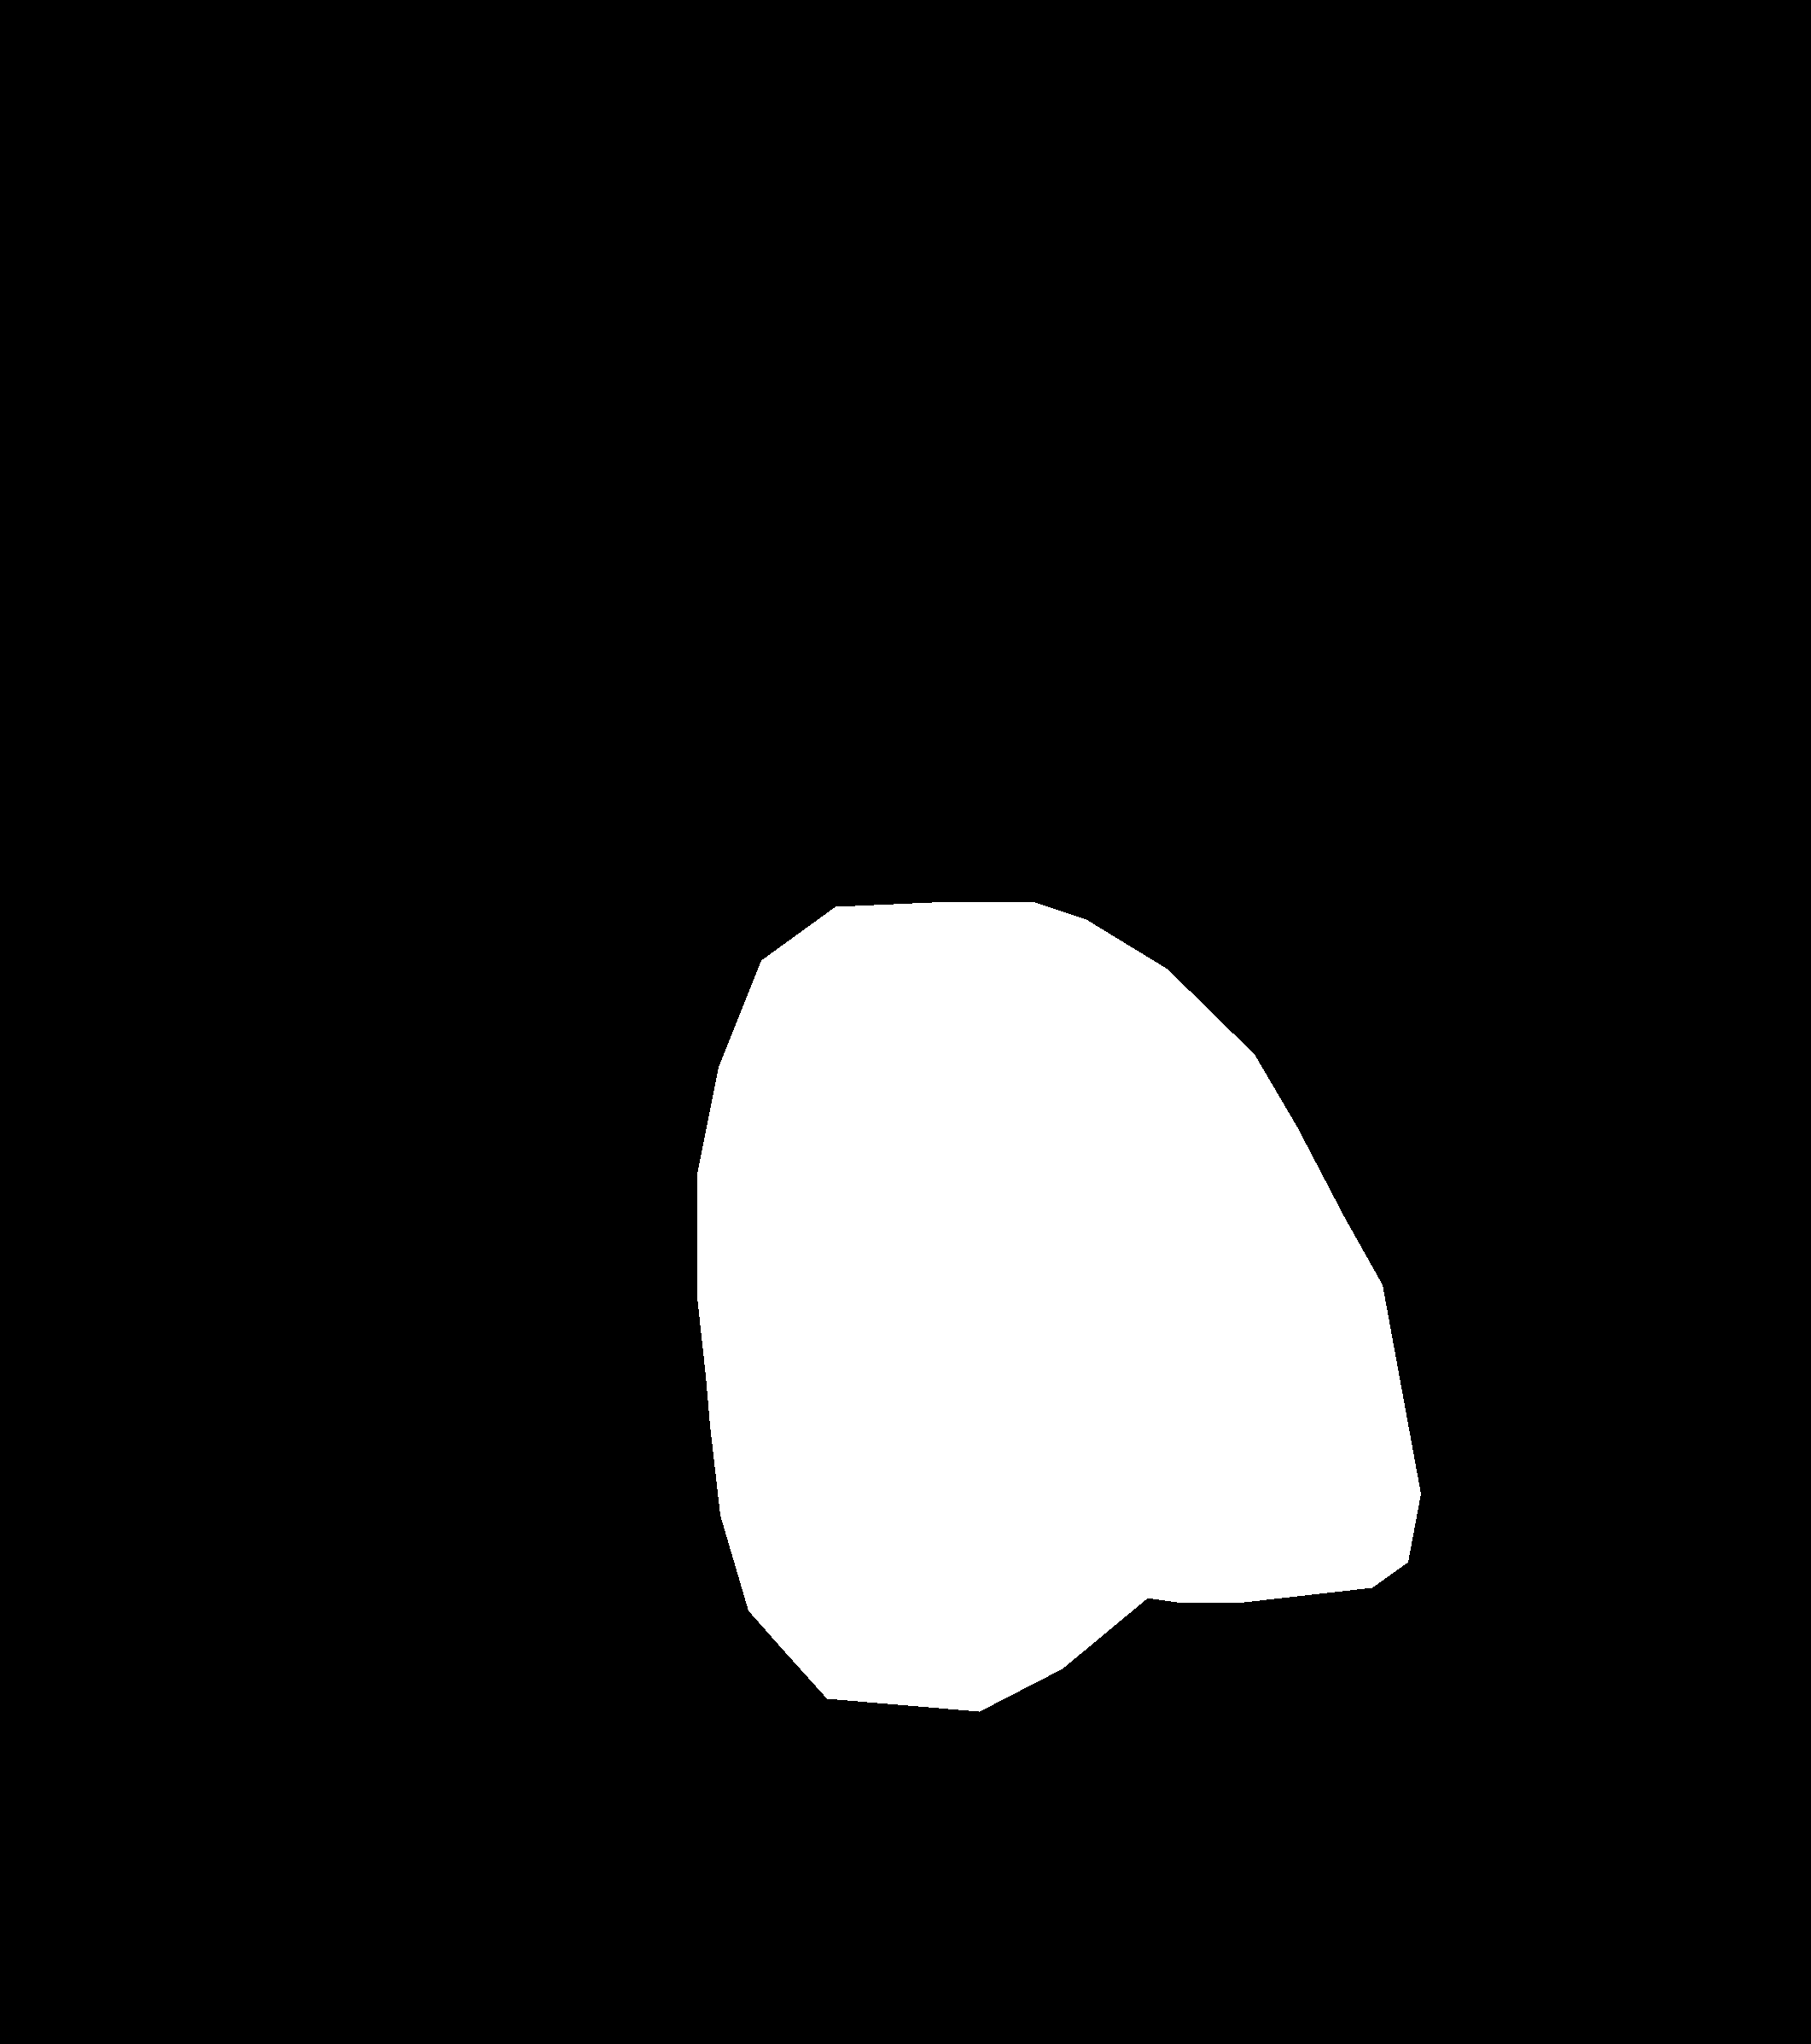heart: (697, 902, 1419, 1712)
left_lung: (79, 70, 872, 1743)
right_lung: (1051, 80, 1718, 1797)
